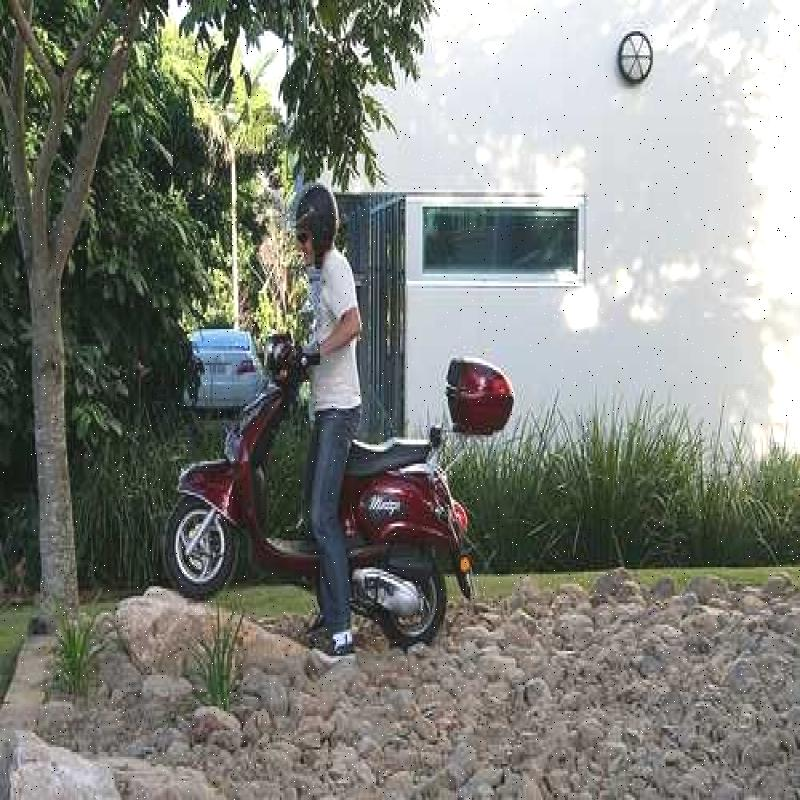bike: (170, 321, 494, 631)
